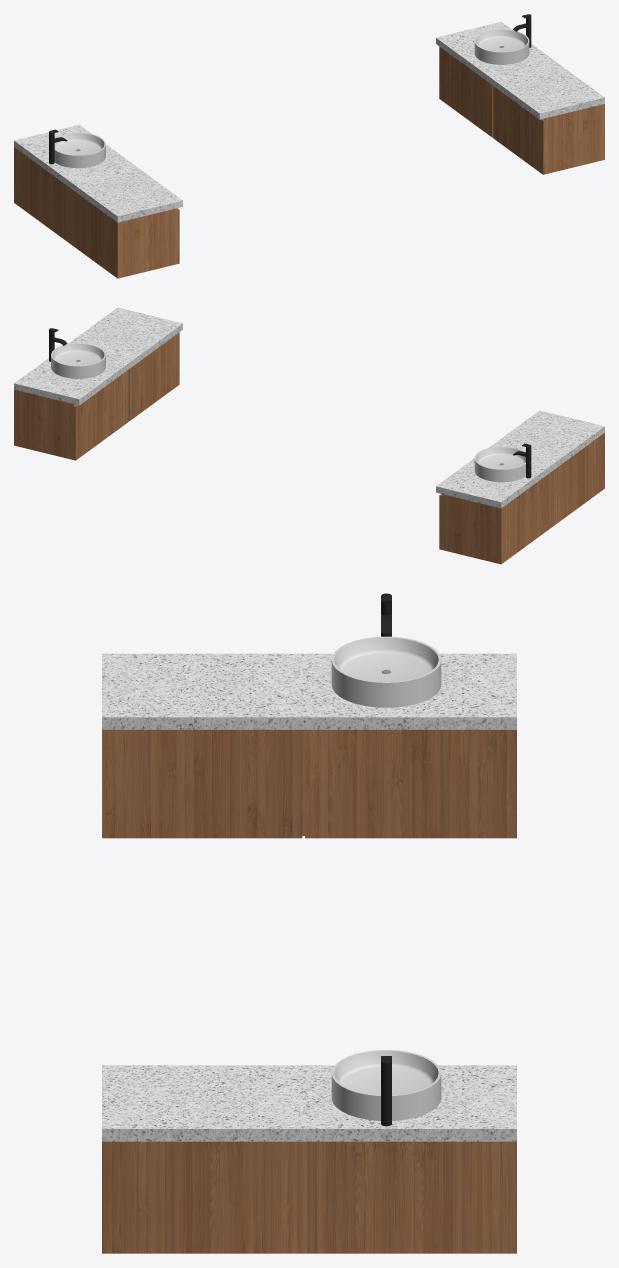
The model's file is MSH_Lavabo_Coworking.FBX.
3 views of the same model, one above another, from view 1: azimuth 30°, elevation 25°; view 2: azimuth 150°, elevation 25°; view 3: azimuth 270°, elevation 25° (orthographic). The views are drawn at different scales.
Parts seen in each view (by area): view 1: MSH_Lavabo_Coworking; view 2: MSH_Lavabo_Coworking; view 3: MSH_Lavabo_Coworking.
Part boxes in pixels (left/top/right/bottom): MSH_Lavabo_Coworking: left=14, top=14, right=604, bottom=278; MSH_Lavabo_Coworking: left=14, top=307, right=604, bottom=564; MSH_Lavabo_Coworking: left=102, top=593, right=516, bottom=1253.
Bounding box in the file's own units: 410 × 75.26 × 151.
